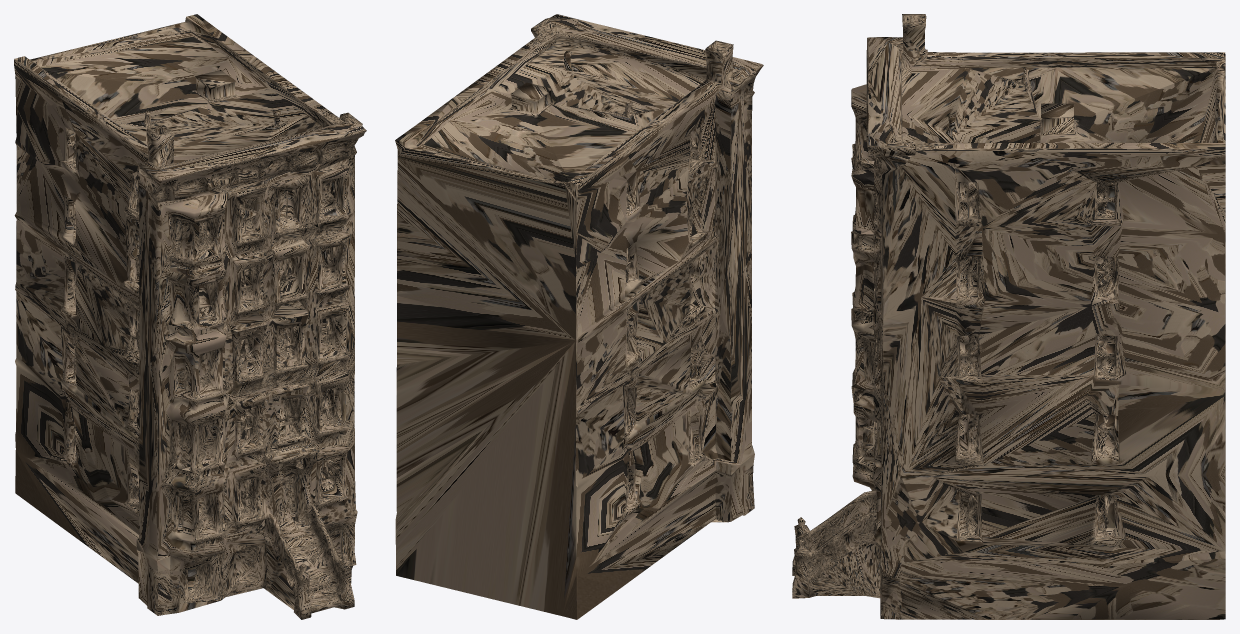
The model's file is semantic-primitive-v01.fbx.
The picture shows the model from 3 angles, left to right: view 1: azimuth 30°, elevation 25°; view 2: azimuth 150°, elevation 25°; view 3: azimuth 270°, elevation 25°; orthographic projection. The views are drawn at different scales.
Parts seen in each view (by area): view 1: CF_PROXY_BUILDING_GENERATED; view 2: CF_PROXY_BUILDING_GENERATED; view 3: CF_PROXY_BUILDING_GENERATED.
Part boxes in pixels (x1,y1,x2,y2): CF_PROXY_BUILDING_GENERATED: [14, 14, 366, 619]; CF_PROXY_BUILDING_GENERATED: [395, 14, 763, 619]; CF_PROXY_BUILDING_GENERATED: [792, 14, 1225, 619].
Bounding box in the file's own units: 705 × 1500 × 1159.
